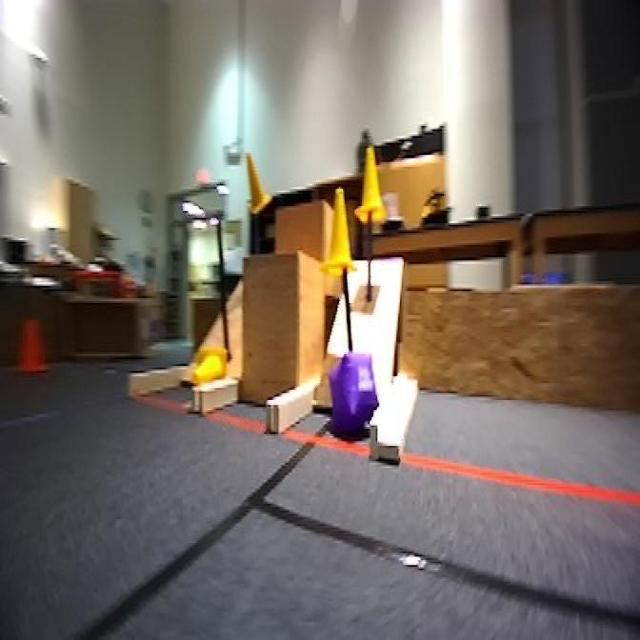frc_cone: (322, 188, 357, 272), (354, 146, 388, 223), (246, 152, 271, 214), (192, 347, 228, 390)
frc_cube: (328, 352, 378, 431)
